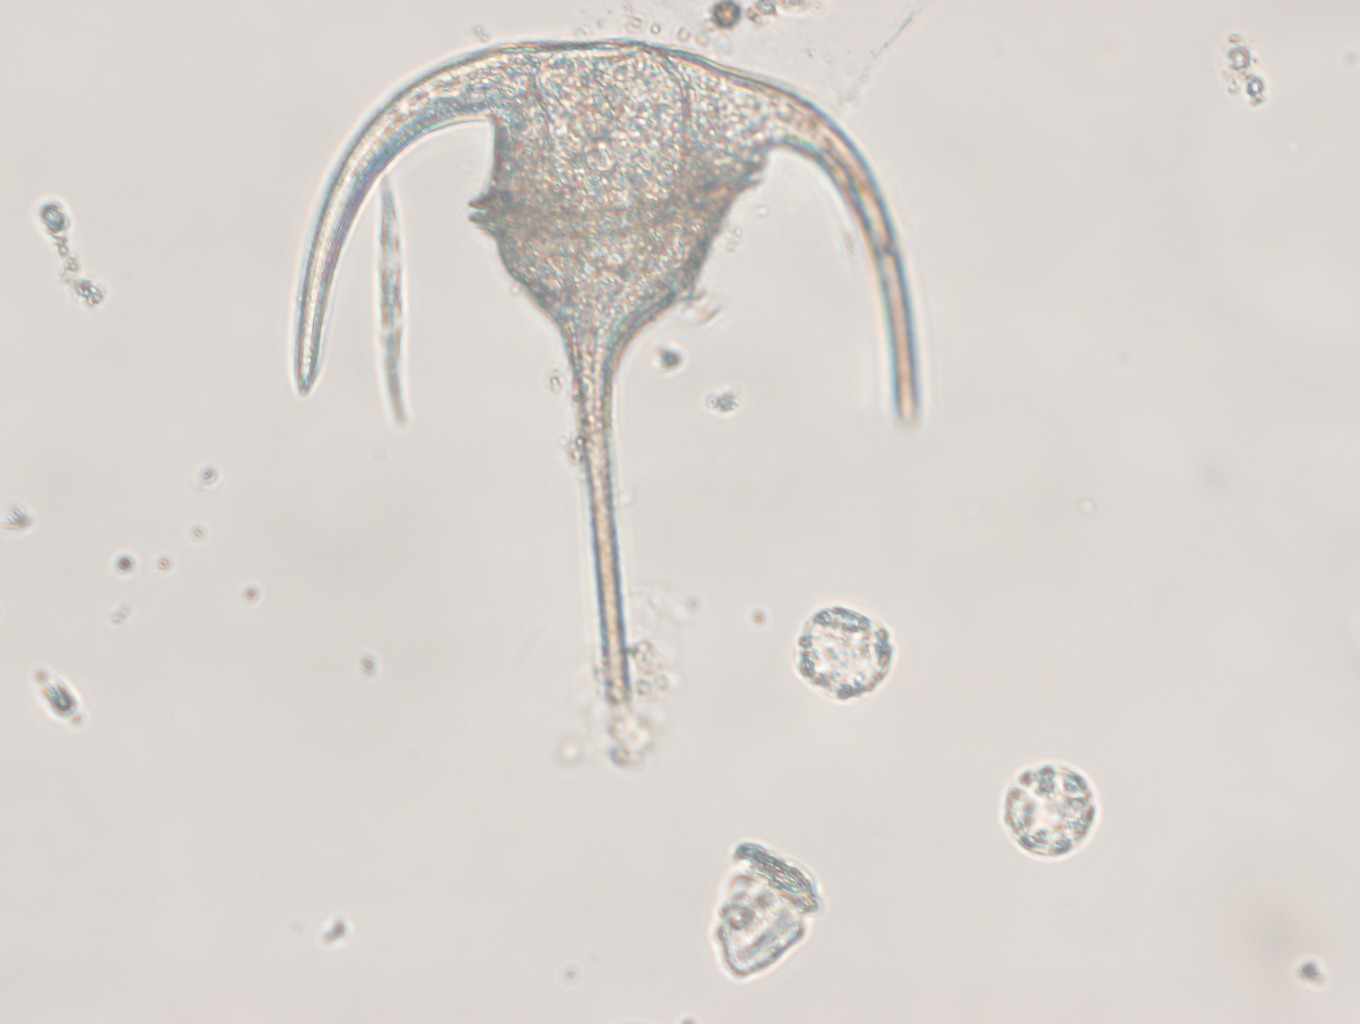ceratium tripos: (295, 42, 917, 703)
